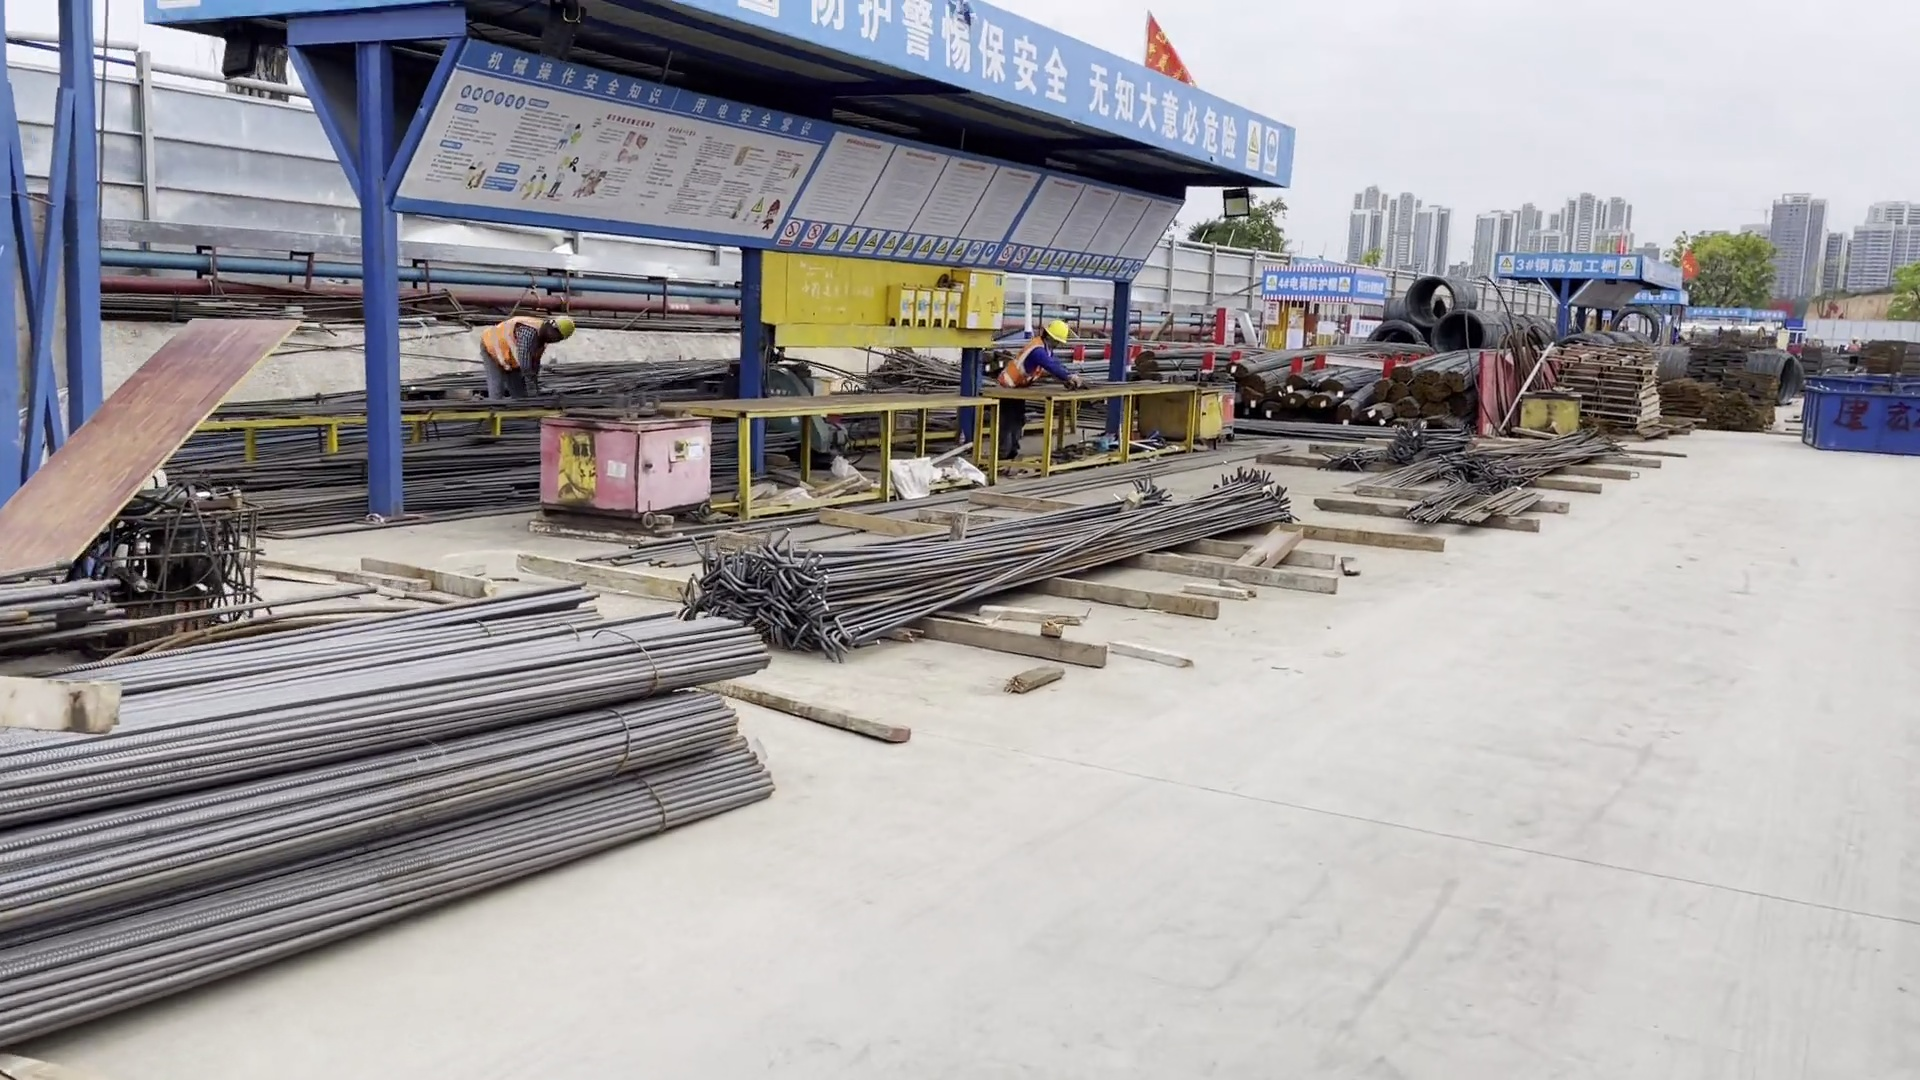ebox: (949, 272, 1003, 341)
helmet: (1045, 322, 1069, 341), (555, 315, 577, 335)
person: (474, 311, 578, 400), (980, 320, 1085, 397)
rebar: (1, 754, 800, 1014), (1, 678, 781, 901), (1, 590, 788, 796), (689, 463, 1321, 638), (1226, 340, 1417, 377), (1080, 343, 1266, 373), (1393, 344, 1464, 381), (1258, 361, 1299, 396), (1423, 352, 1466, 382), (1338, 384, 1373, 420), (1330, 368, 1380, 392), (1452, 358, 1485, 391), (1305, 392, 1339, 415), (1282, 389, 1309, 411), (1256, 400, 1283, 421), (1428, 383, 1454, 403), (1237, 388, 1257, 415), (1370, 378, 1395, 400), (1393, 400, 1420, 417), (1367, 404, 1394, 421), (1290, 373, 1312, 393), (1420, 403, 1450, 418), (1409, 380, 1428, 401), (1384, 387, 1409, 404)
slogan: (814, 1, 1231, 165)
vest: (478, 314, 546, 369), (996, 340, 1055, 391)
